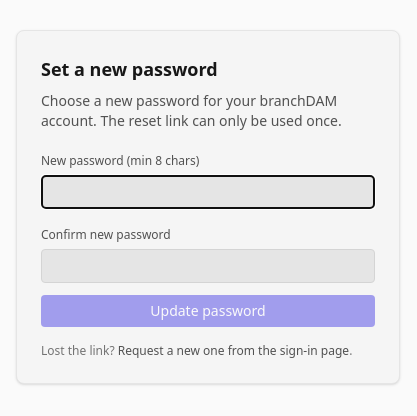
it: PasswordResetPage › disables submit while passwords do not match
This screenshot has width=417, height=416.
Type "new-secret-1" into the password field labelled "New password (min 8 chars)" at [208, 192], box x1=41 y1=175 x2=375 y2=209
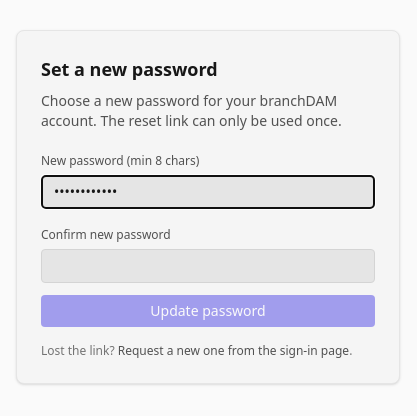
Type "different-1" into the password field labelled "Confirm new password" at [208, 266], box x1=41 y1=249 x2=375 y2=283
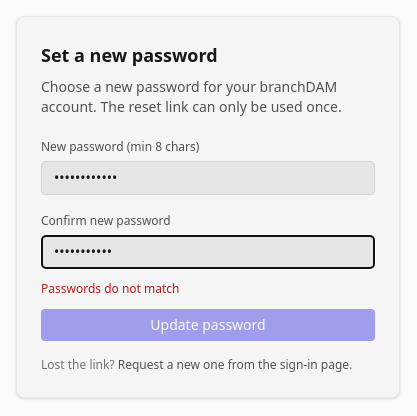
expect the button "Update password" is disabled: met, box x1=41 y1=309 x2=375 y2=341
expect the text "Passwords do not match" is shown: met, box x1=41 y1=280 x2=180 y2=297
